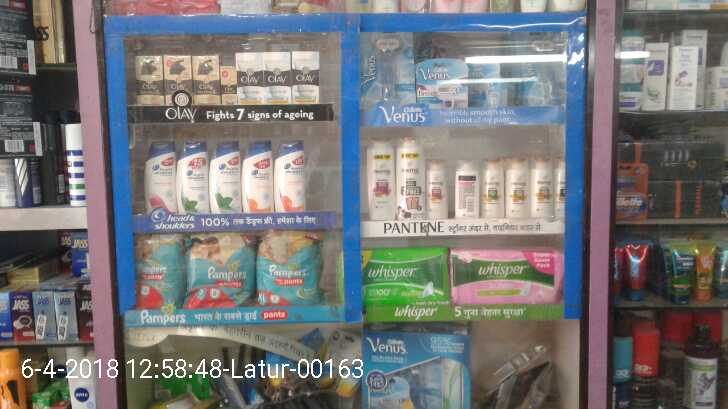gillete: (616, 162, 648, 220), (669, 241, 696, 304)
venus: (364, 326, 472, 409), (505, 29, 561, 105), (359, 33, 414, 106), (416, 63, 469, 108), (470, 58, 503, 108), (415, 33, 464, 59)
